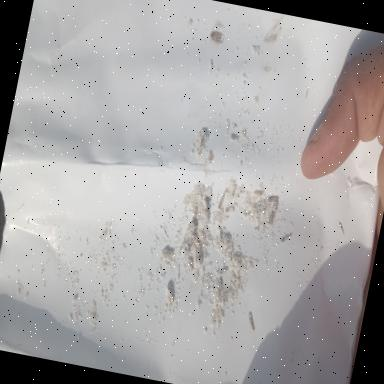pbw: (162, 284, 176, 310), (210, 30, 224, 46), (268, 204, 278, 226), (161, 248, 173, 261), (266, 194, 278, 206), (229, 135, 237, 142)
